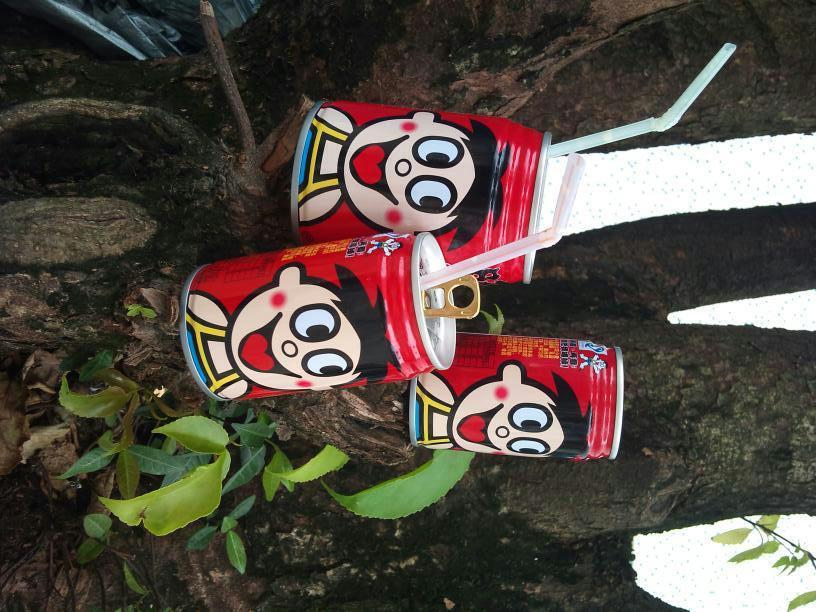wangzai: (176, 253, 404, 406)
